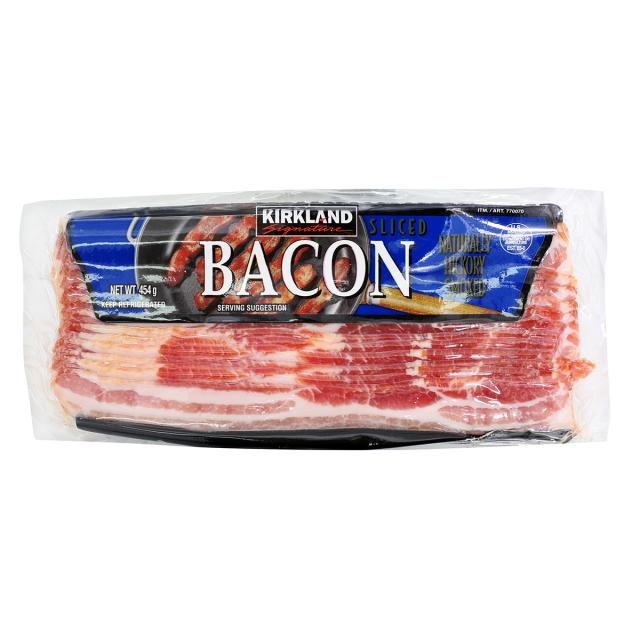bacon: (30, 203, 599, 449)
